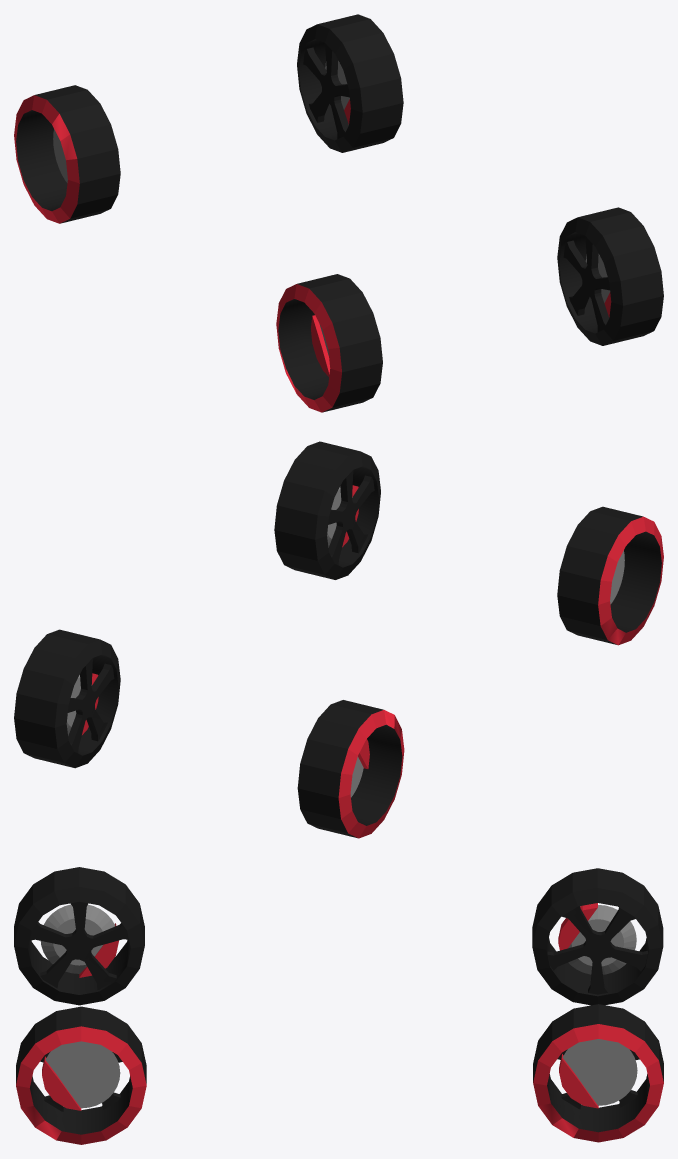
File: newmnormals.fbx
3 renders of one model, top to bottom at view 1: azimuth 30°, elevation 25°; view 2: azimuth 150°, elevation 25°; view 3: azimuth 270°, elevation 25°, orthographic.
Parts seen in each view (by area): view 1: BR, FL, FR, BL; view 2: BL, FR, BR, FL; view 3: FR, FL, BR, BL.
Part boxes in pixels (x1=…): BR: x1=14, y1=85, x2=120, y2=223; FL: x1=297, y1=14, x2=403, y2=152; FR: x1=276, y1=274, x2=382, y2=412; BL: x1=557, y1=207, x2=663, y2=345; BL: x1=274, y1=441, x2=380, y2=579; FR: x1=557, y1=506, x2=663, y2=645; BR: x1=297, y1=700, x2=404, y2=838; FL: x1=14, y1=629, x2=120, y2=768; FR: x1=14, y1=867, x2=144, y2=1005; FL: x1=533, y1=1004, x2=663, y2=1142; BR: x1=532, y1=868, x2=663, y2=1005; BL: x1=16, y1=1006, x2=146, y2=1144.
Size of the model in its own units: 183 by 311 by 64.07.
